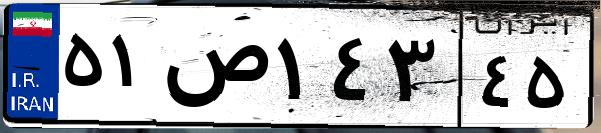1: (270, 28, 330, 110), (110, 28, 158, 98)
3: (385, 28, 445, 110)
4: (330, 28, 385, 110), (475, 38, 525, 113)
5: (57, 26, 110, 100), (525, 38, 570, 115)
ص: (158, 20, 270, 120)
